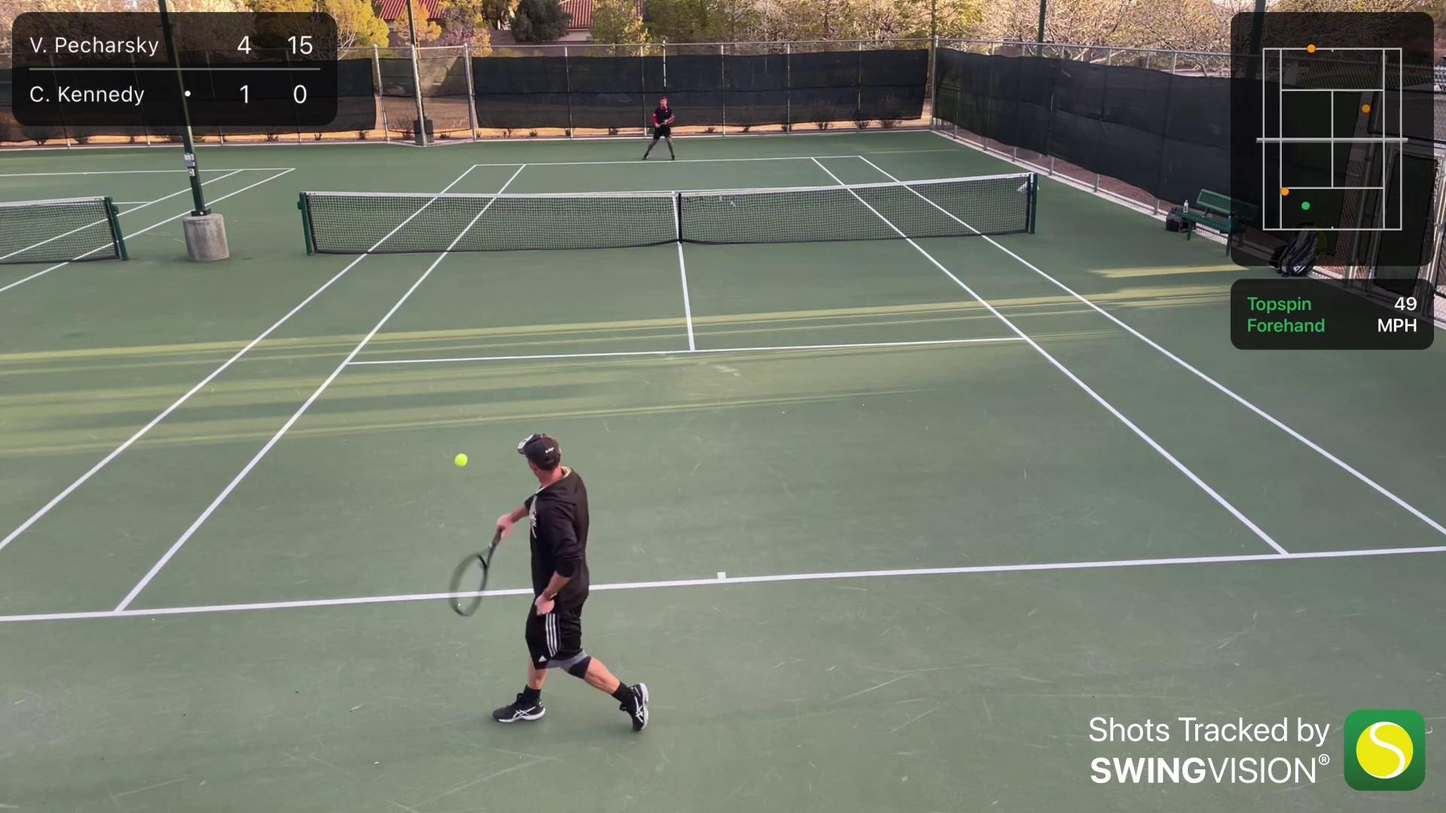ball: (452, 452, 471, 471)
